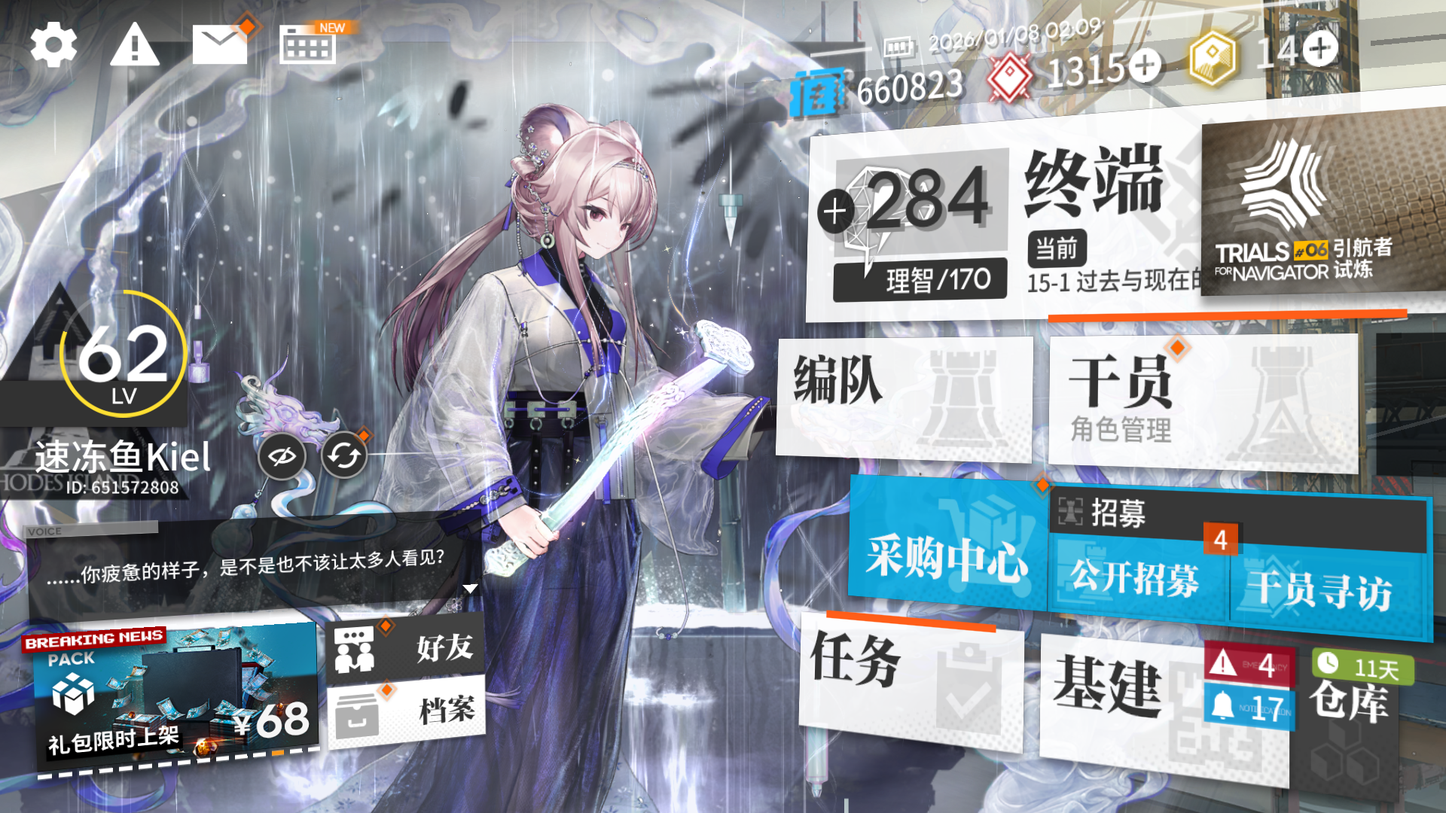infrastructure_button: (1037, 637, 1282, 782), (1007, 129, 1203, 239)
